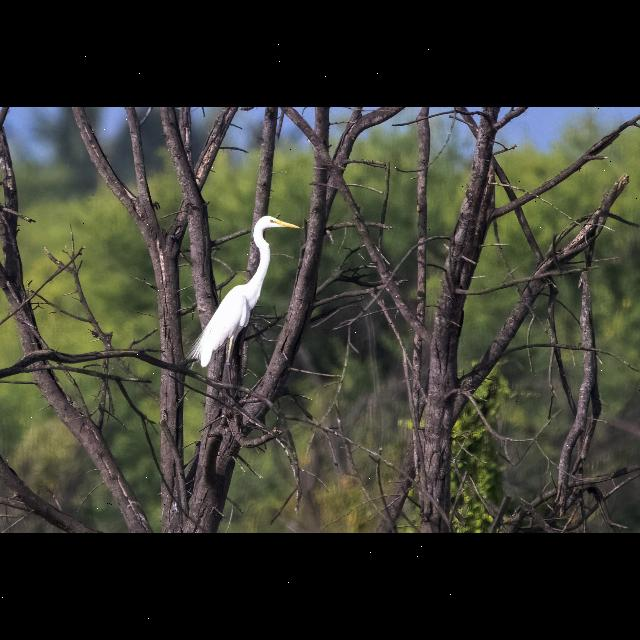egret: (187, 211, 306, 391)
